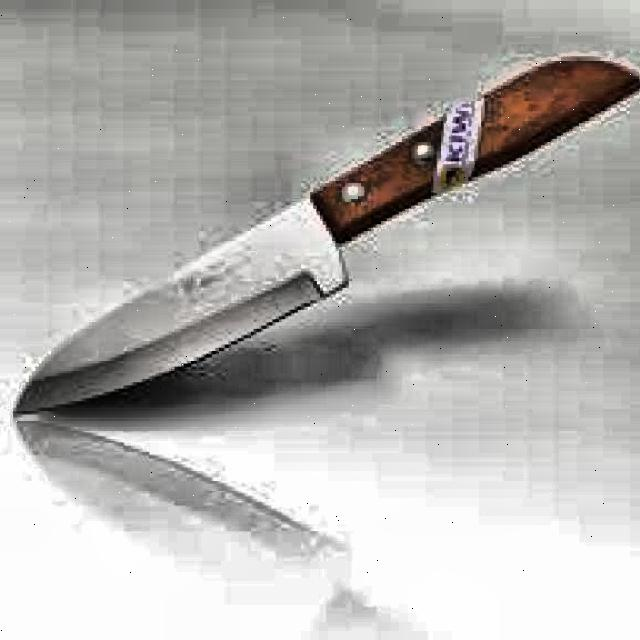knife: (8, 53, 640, 416)
